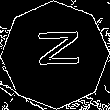N_W: (29, 34, 81, 76)
